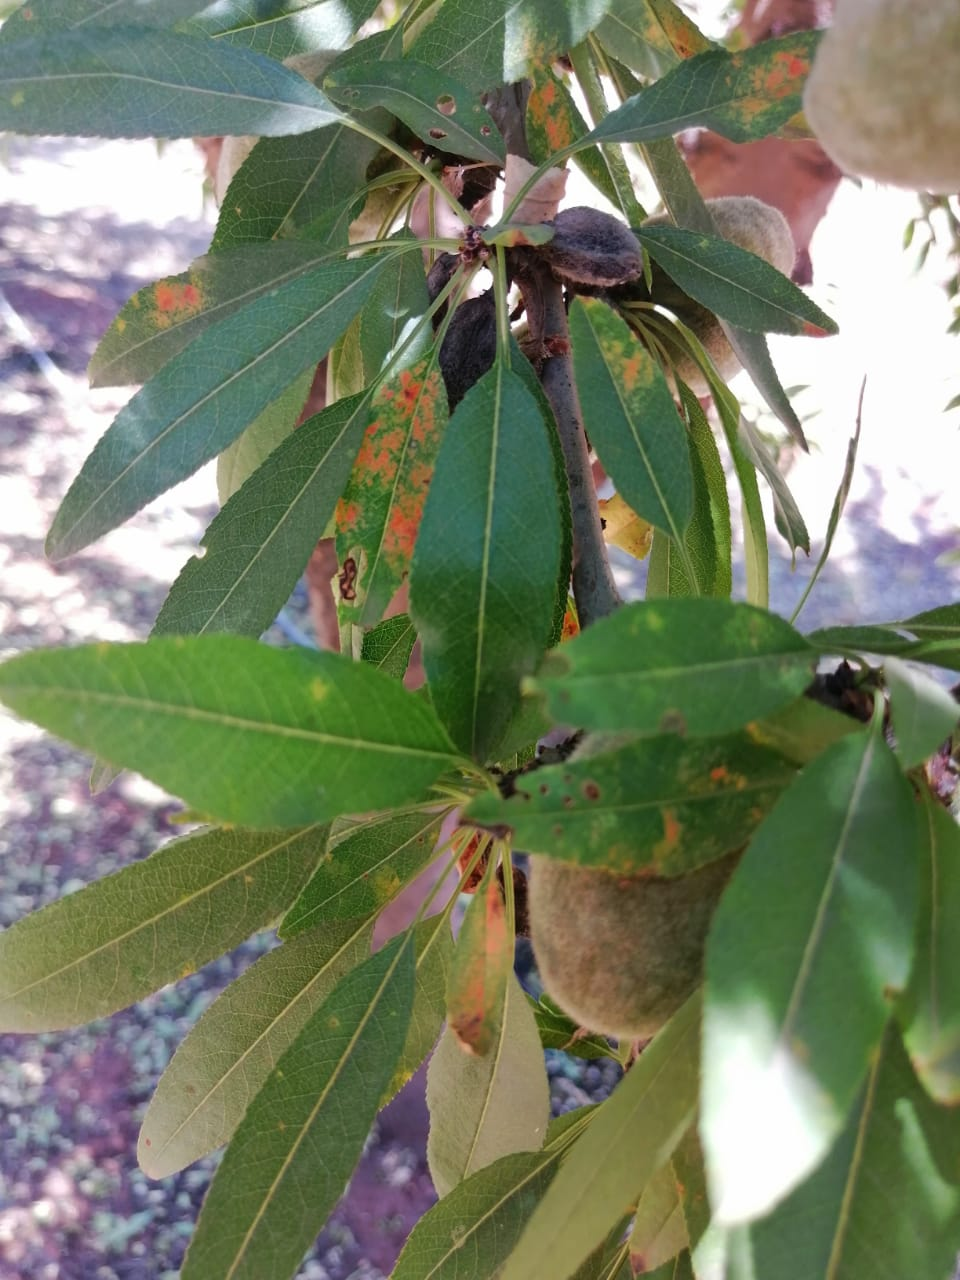polystigma: (453, 737, 810, 876), (84, 240, 360, 402), (567, 291, 698, 541), (334, 352, 449, 634), (578, 29, 829, 149)
